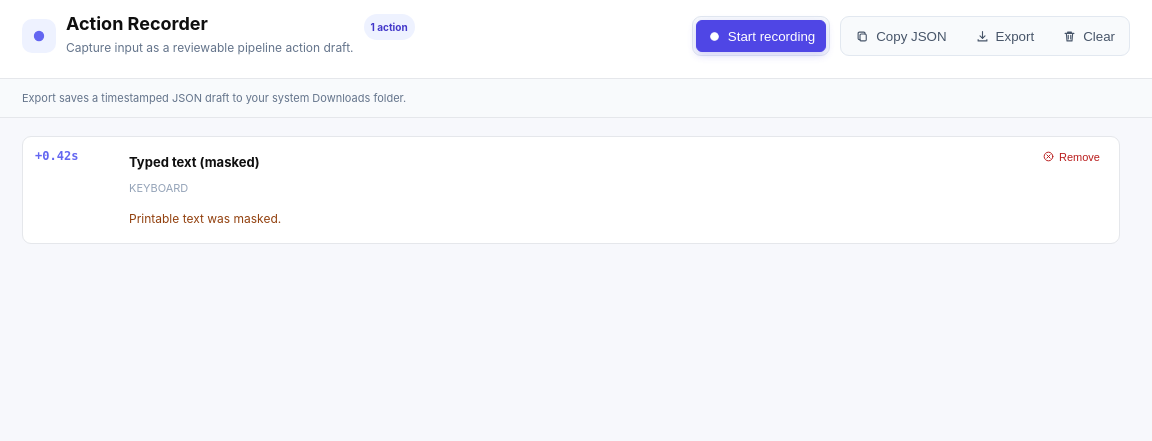
Test: formats a masked action and lets the user remove the draft
expect the text "Typed text (masked)" is shown: met, box [129,154,260,170]
expect the text "Printable text was masked." is shown: met, box [129,211,281,226]
Click the button "Remove": (1071, 156) [1035,146,1107,167]
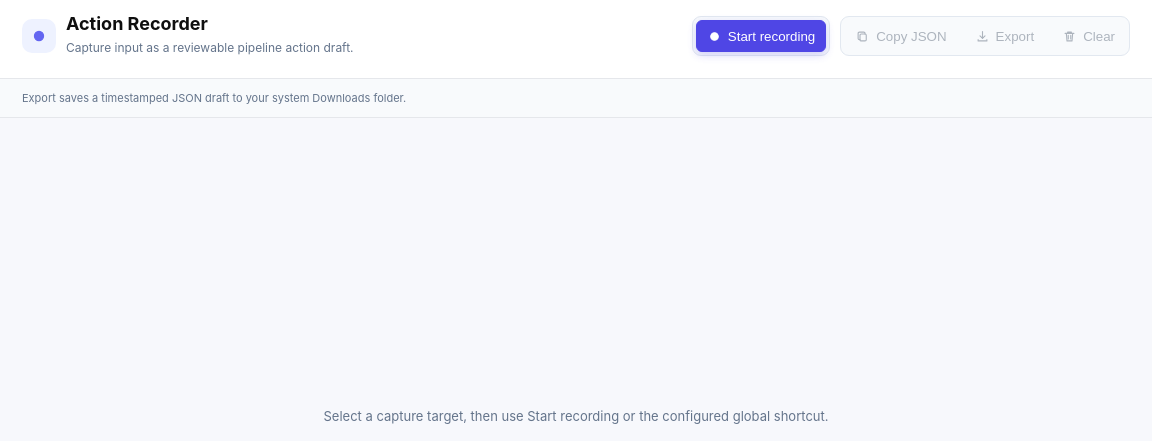
expect the text "Select a capture target" is shown: met, box [324,408,828,424]
